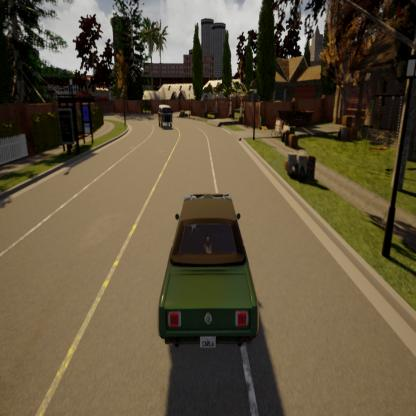Cars: (158, 193, 260, 352), (157, 102, 173, 129)
